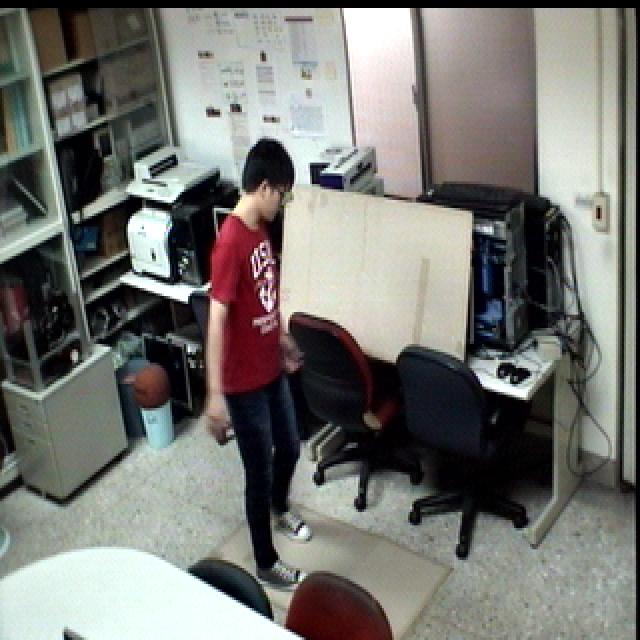stand: (194, 131, 320, 594)
